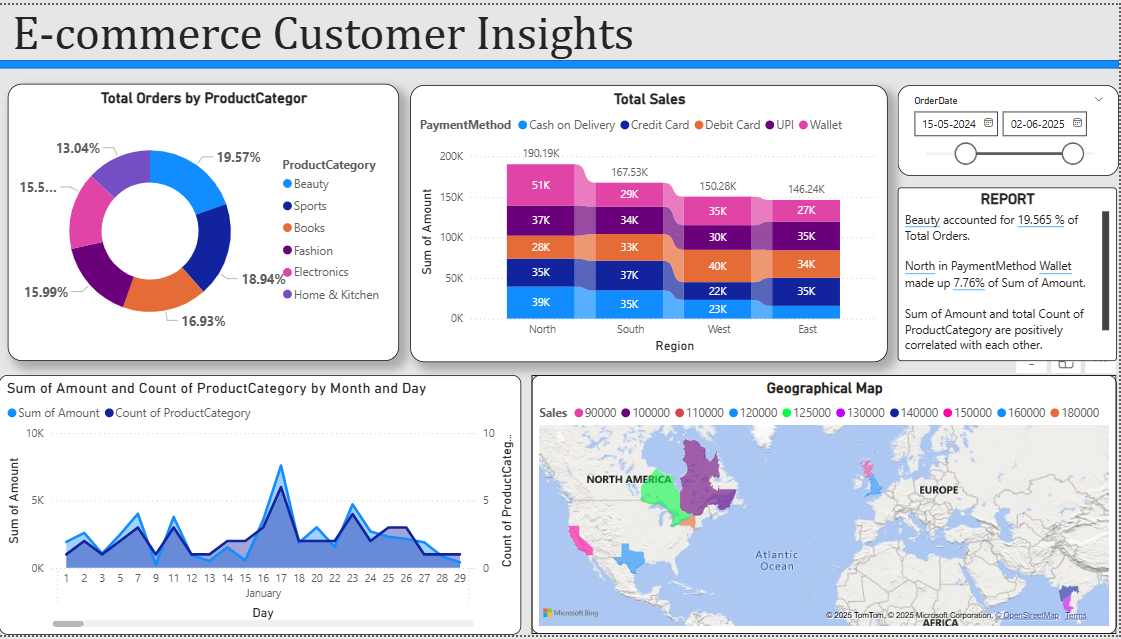

This screenshot's page, from the dashboard's own definition file:
{"tool":"powerbi","page":{"name":"Page 2","canvas":[1280,720],"ordinal":1},"visuals":[{"type":"textbox","box":[9.6,0,746.5,72.7],"z":0},{"type":"shape","box":[0,63.1,1280.3,9.6],"z":1000},{"type":"donutChart","title":"Total Orders by ProductCategor","fields":{"Category":["ecommerce_orders.ProductCategory"],"Y":["ecommerce_orders.Total Orders"]},"box":[9.4,90.6,446.9,317.2],"z":2000},{"type":"areaChart","fields":{"Category":["ecommerce_orders.OrderDate.Variation.Date Hierarchy.Month","ecommerce_orders.OrderDate.Variation.Date Hierarchy.Day"],"Y":["Sum(ecommerce_orders.Amount)"],"Y2":["CountNonNull(ecommerce_orders.ProductCategory)"]},"box":[0,422.9,597.1,297.1],"z":3000},{"type":"columnChart","title":"Total Sales","fields":{"Category":["ecommerce_orders.Region"],"Y":["Sum(ecommerce_orders.Amount)"],"Series":["ecommerce_orders.PaymentMethod"]},"box":[470,91.4,545.7,317.1],"z":4000},{"type":"filledMap","title":"Geographical Map","fields":{"Category":["ecommerce_sales_geo.State"],"X":["Sum(ecommerce_sales_geo.Longitude)"],"Series":["ecommerce_sales_geo.Sales"]},"box":[608.6,422.9,668.6,295.7],"z":5000},{"type":"slicer","fields":{"Values":["ecommerce_orders.OrderDate"]},"box":[1027.1,91.4,252.9,104.3],"z":6000},{"type":"textbox","title":"REPORT","box":[1027.1,208.6,250,198.6],"z":7000}]}

Visuals, with their boxes in screenshot pixels (x1, y1, x2, y2), scaled from the page's 1280x720 canvas onto the 1121x639 screenshot:
textbox: [left=8, top=0, right=662, bottom=65]
shape: [left=0, top=56, right=1120, bottom=65]
"Total Orders by ProductCategor" donutChart: [left=8, top=80, right=400, bottom=362]
areaChart - ecommerce_orders.OrderDate.Variation.Date Hierarchy.Month x ecommerce_orders.OrderDate.Variation.Date Hierarchy.Day: [left=0, top=375, right=523, bottom=638]
"Total Sales" columnChart: [left=412, top=81, right=890, bottom=363]
"Geographical Map" filledMap: [left=533, top=375, right=1119, bottom=638]
slicer - ecommerce_orders.OrderDate: [left=900, top=81, right=1120, bottom=174]
"REPORT" textbox: [left=900, top=185, right=1118, bottom=361]
